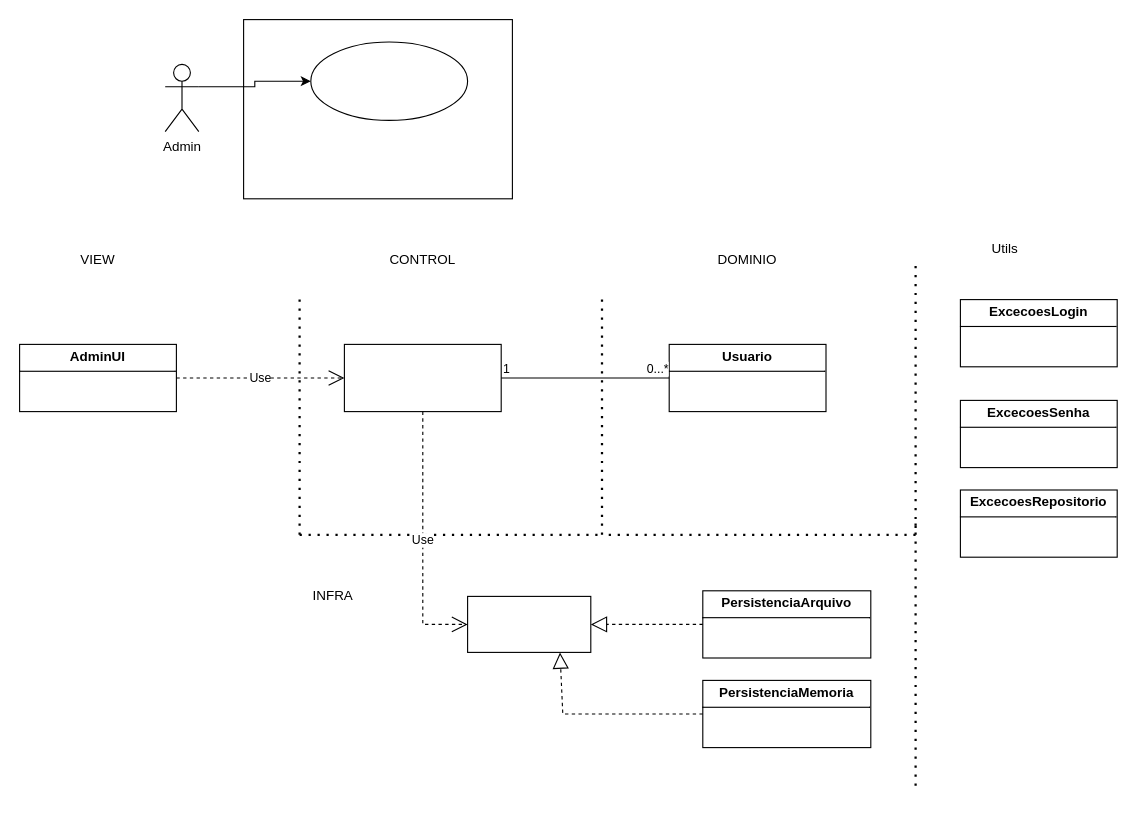
Some shapes in this 1137 by 814 pixel diagram are drawn without their labels. Each missing label, with the box of its shape:
GerenciamentoUsuario: (343, 343, 501, 412)
Gerenciar Usuário: (310, 41, 468, 120)
«interface» Repositorio: (466, 595, 591, 652)
